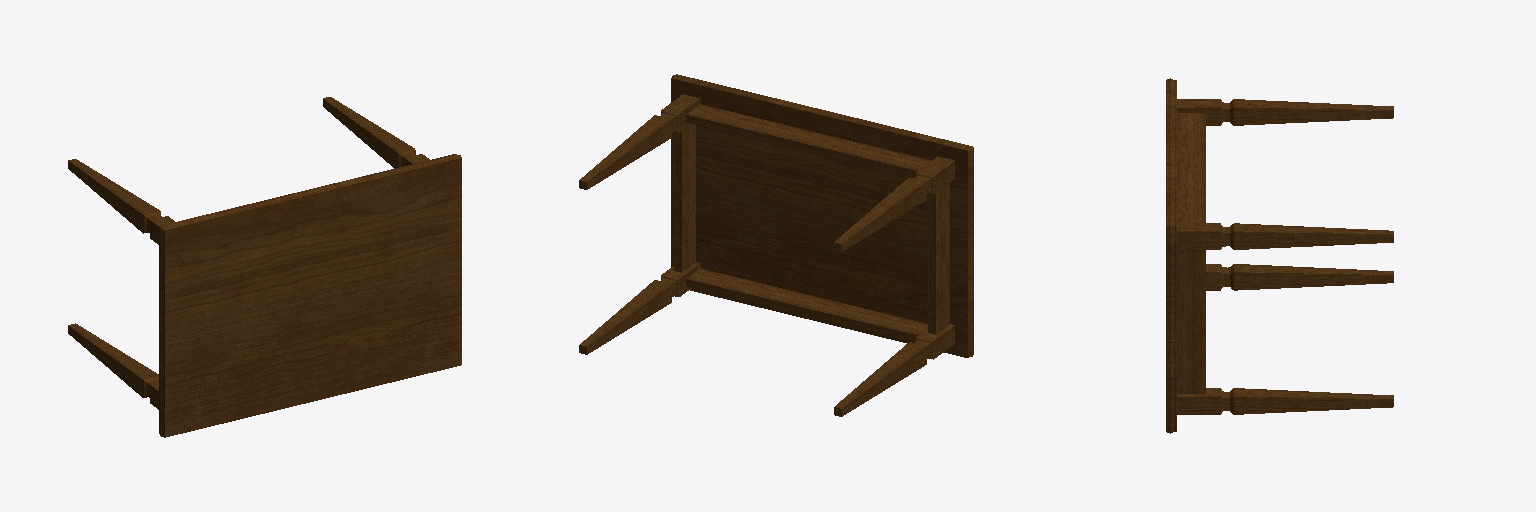
3 views of the same model, side by side, from view 1: azimuth 30°, elevation 25°; view 2: azimuth 150°, elevation 25°; view 3: azimuth 270°, elevation 25° (orthographic).
Visible parts, largest first — view 1: Rectangle1, Loft01, Line03, Line04, Line02; view 2: Rectangle1, Rectangle4, Rectangle0, Line03, Rectangle2, Rectangle3, Line02, Line04, Loft01, Line01; view 3: Line02, Line01, Line03, Rectangle3, Loft01, Line04, Rectangle0.
Part boxes in pixels (x1,y1,x2,y2): Rectangle1: (164, 158, 461, 437); Loft01: (159, 154, 461, 437); Line03: (68, 159, 174, 244); Line04: (68, 323, 158, 409); Line02: (323, 97, 429, 168); Rectangle1: (671, 79, 967, 357); Rectangle4: (686, 269, 927, 341); Rectangle0: (686, 104, 930, 177); Line03: (834, 156, 954, 251); Rectangle2: (928, 183, 949, 334); Rectangle3: (674, 124, 695, 272); Line02: (579, 94, 700, 189); Line04: (834, 324, 954, 416); Loft01: (671, 74, 973, 357); Line01: (579, 262, 700, 354); Line02: (1177, 223, 1393, 249); Line01: (1177, 388, 1393, 414); Line03: (1177, 99, 1393, 125); Rectangle3: (1177, 250, 1205, 393); Loft01: (1166, 78, 1176, 433); Line04: (1206, 264, 1393, 290); Rectangle0: (1177, 113, 1205, 222).
Size of the model in its own units: 1213 by 813 by 800.
1 materials, 1 textured.